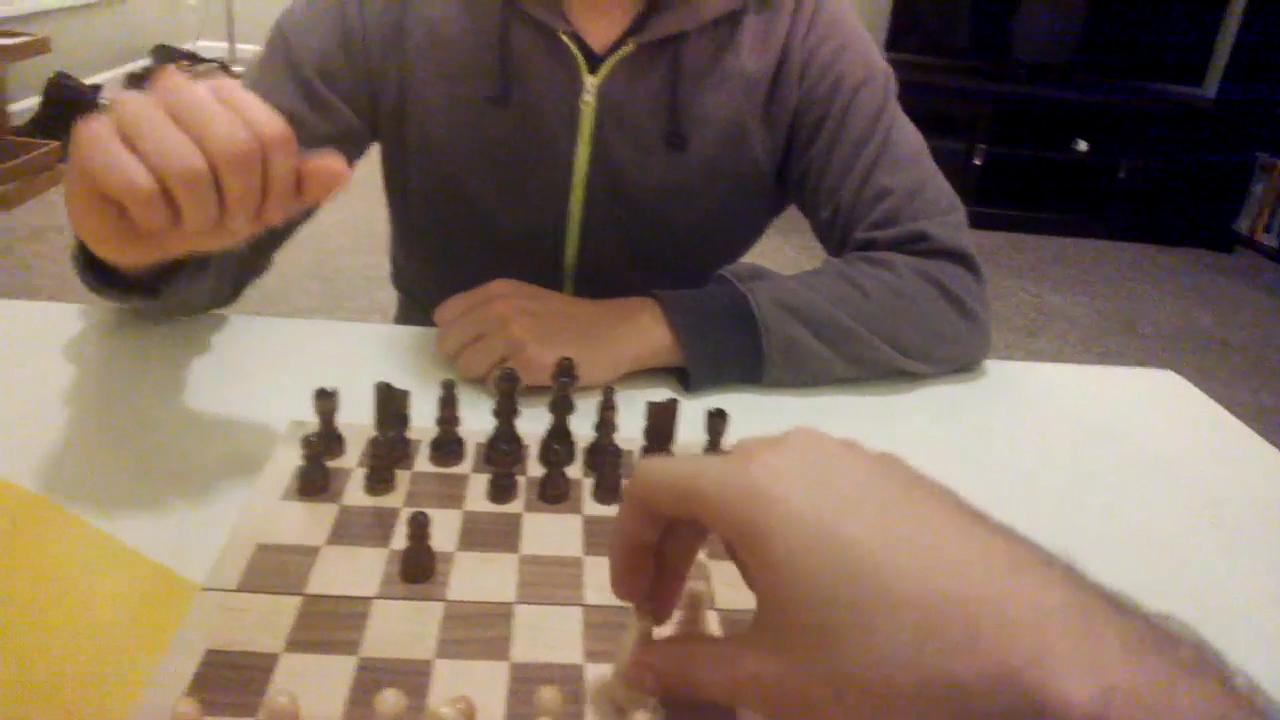hand: (613, 437, 1056, 720), (63, 74, 363, 282), (424, 265, 637, 407)
